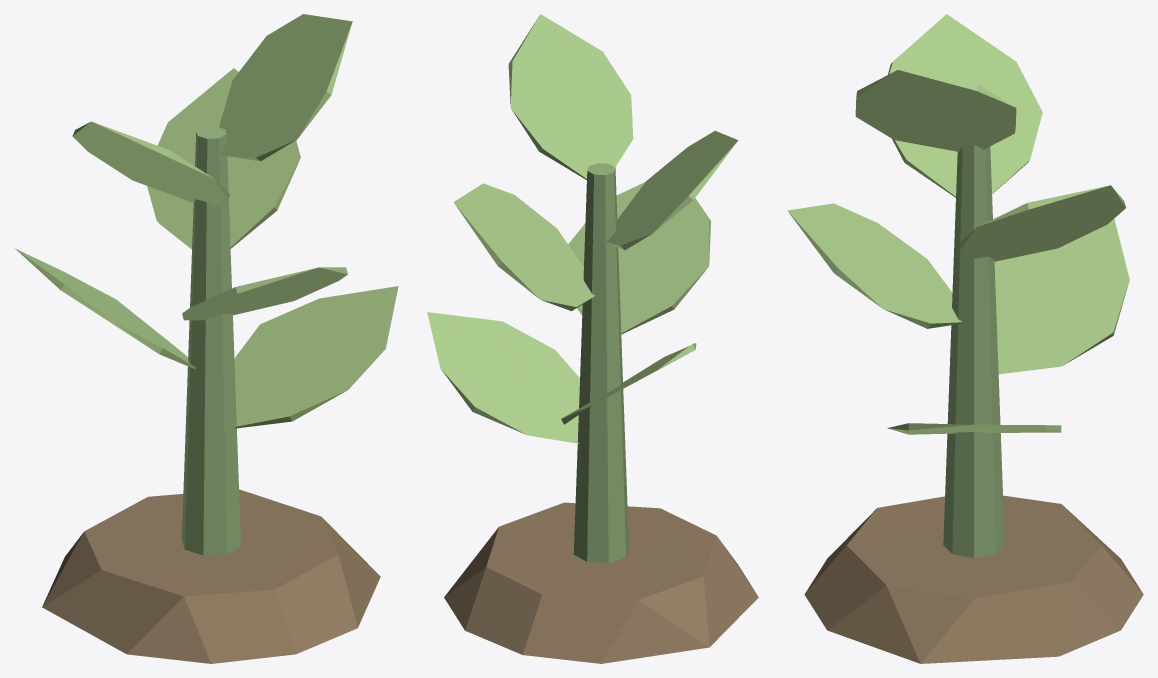
File: 33-Agricultura_cultivo_madura.glb
The picture shows the model from 3 angles, left to right: view 1: azimuth 30°, elevation 25°; view 2: azimuth 150°, elevation 25°; view 3: azimuth 270°, elevation 25°; orthographic projection. The views are drawn at different scales.
Parts seen in each view (by area): view 1: SM_Cultivo_M_Cultivo_Hoja, SM_Cultivo_M_Cultivo_Tierra, SM_Cultivo_M_Cultivo_Tallo; view 2: SM_Cultivo_M_Cultivo_Hoja, SM_Cultivo_M_Cultivo_Tierra, SM_Cultivo_M_Cultivo_Tallo; view 3: SM_Cultivo_M_Cultivo_Hoja, SM_Cultivo_M_Cultivo_Tierra, SM_Cultivo_M_Cultivo_Tallo.
Part boxes in pixels (bbox=[...]): SM_Cultivo_M_Cultivo_Hoja: bbox=[14, 14, 398, 428]; SM_Cultivo_M_Cultivo_Tierra: bbox=[42, 489, 380, 663]; SM_Cultivo_M_Cultivo_Tallo: bbox=[181, 126, 240, 555]; SM_Cultivo_M_Cultivo_Hoja: bbox=[427, 14, 738, 443]; SM_Cultivo_M_Cultivo_Tierra: bbox=[444, 502, 758, 663]; SM_Cultivo_M_Cultivo_Tallo: bbox=[573, 163, 628, 562]; SM_Cultivo_M_Cultivo_Hoja: bbox=[787, 14, 1129, 434]; SM_Cultivo_M_Cultivo_Tierra: bbox=[804, 495, 1143, 663]; SM_Cultivo_M_Cultivo_Tallo: bbox=[943, 145, 1004, 557].
Bounding box in the file's own units: 0.3154 × 0.5239 × 0.2942.
